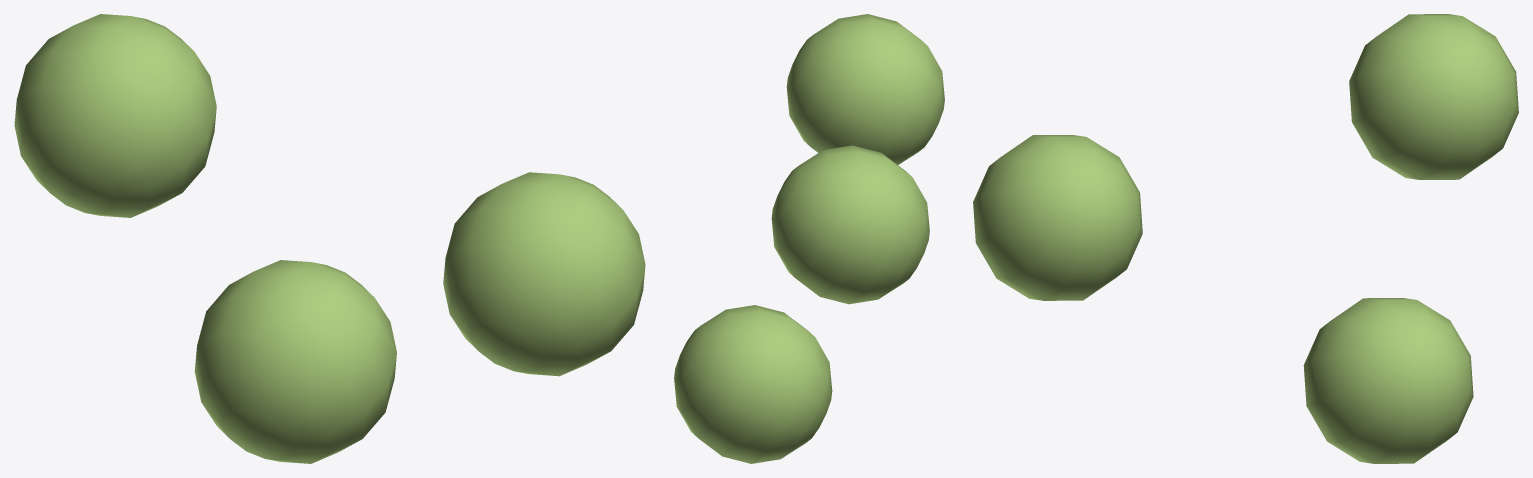
The model's file is pre-auricular-nodes-r.glb.
3 renders of one model, left to right at view 1: azimuth 30°, elevation 25°; view 2: azimuth 150°, elevation 25°; view 3: azimuth 270°, elevation 25°, orthographic. The views are drawn at different scales.
Parts seen in each view (by area): view 1: Pre-auricular nodes.r; view 2: Pre-auricular nodes.r; view 3: Pre-auricular nodes.r.
Boxes of the visible parts, left/top/right/bottom form: Pre-auricular nodes.r: left=14, top=14, right=645, bottom=463; Pre-auricular nodes.r: left=674, top=14, right=944, bottom=463; Pre-auricular nodes.r: left=973, top=14, right=1518, bottom=463.
Bounding box in the file's own units: 0.00557 × 0.00625 × 0.0082.
